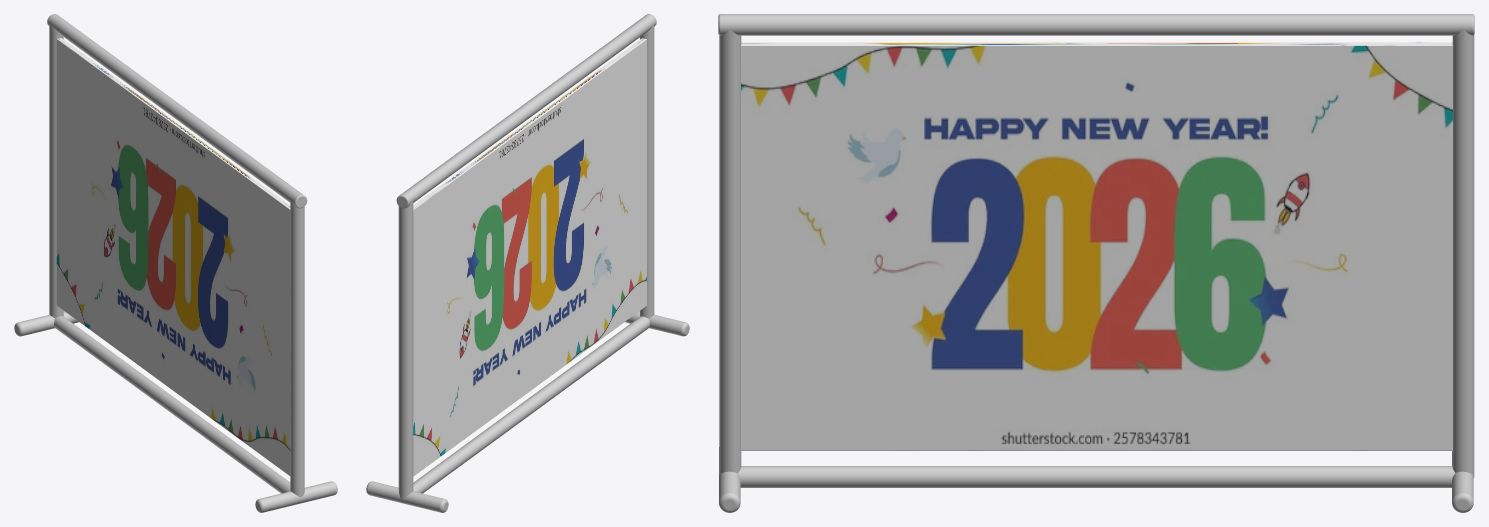
The model's file is LobbyBanner.glb.
The picture shows the model from 3 angles, left to right: view 1: azimuth 30°, elevation 25°; view 2: azimuth 150°, elevation 25°; view 3: azimuth 270°, elevation 25°; orthographic projection. The views are drawn at different scales.
Parts seen in each view (by area): view 1: Merged Objects, Cylinder 5, Cylinder 4, Cylinder 2, Cylinder 3, Cylinder, Cylinder 1; view 2: Merged Objects, Cylinder 5, Cylinder 3, Cylinder 2, Cylinder 4, Cylinder 1, Cylinder; view 3: Merged Objects, Cylinder 5, Cylinder 2, Cylinder 3, Cylinder 4, Cylinder, Cylinder 1.
Boxes of the visible parts, box(x1,y1,x2,y2) form: Merged Objects: box(56, 38, 290, 475); Cylinder 5: box(47, 14, 307, 208); Cylinder 4: box(290, 201, 304, 497); Cylinder 2: box(54, 316, 290, 493); Cylinder 3: box(49, 24, 63, 318); Cylinder: box(255, 481, 337, 512); Cylinder 1: box(14, 311, 79, 336); Merged Objects: box(413, 38, 646, 476); Cylinder 5: box(396, 14, 656, 208); Cylinder 3: box(398, 201, 413, 499); Cylinder 2: box(413, 316, 649, 493); Cylinder 4: box(640, 25, 654, 318); Cylinder 1: box(366, 481, 448, 512); Cylinder: box(624, 311, 689, 336); Merged Objects: box(741, 42, 1452, 450); Cylinder 5: box(718, 14, 1474, 35); Cylinder 2: box(738, 466, 1454, 487); Cylinder 3: box(1452, 29, 1474, 477); Cylinder 4: box(719, 29, 741, 474); Cylinder: box(719, 447, 740, 512); Cylinder 1: box(1452, 451, 1473, 512).
Bounding box in the file's own units: 0.9137 × 3.49 × 5.07.
7 materials, 1 textured.
